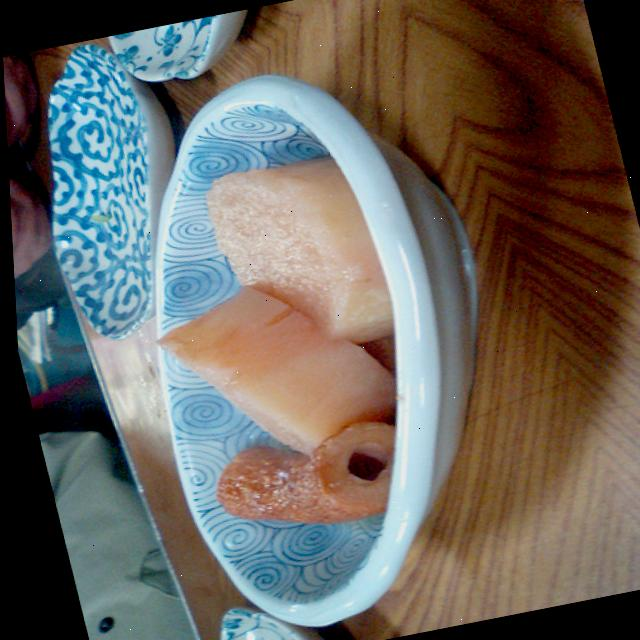汤锅炖物: (114, 147, 439, 552)
